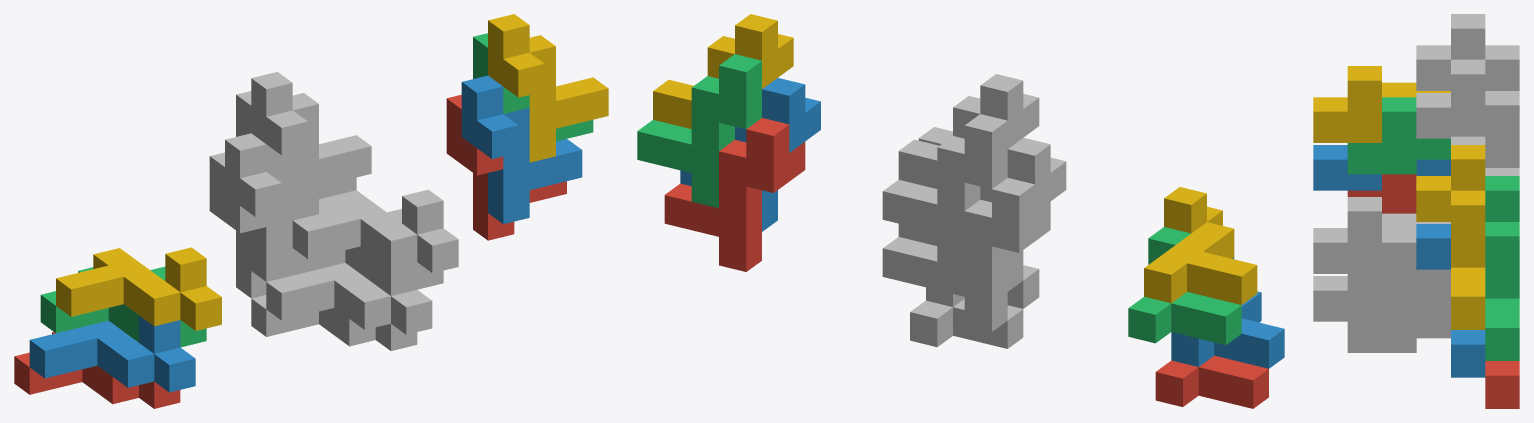
Rendered from tiling.obj.
3 views of the same model, side by side, from view 1: azimuth 30°, elevation 25°; view 2: azimuth 150°, elevation 25°; view 3: azimuth 270°, elevation 25° (orthographic). The views are drawn at different scales.
Parts seen in each view (by area): view 1: copy_1_domain_4, copy_1_domain_8, copy_2_domain_6, copy_2_domain_4, copy_2_domain_8, copy_1_domain_6, copy_1_domain_2, copy_2_domain_2, copy_2_domain_5, copy_1_domain_1, copy_1_domain_5, copy_2_domain_1 (+4 smaller); view 2: copy_2_domain_1, copy_2_domain_5, copy_2_domain_3, copy_2_domain_7, copy_1_domain_4, copy_1_domain_3, copy_2_domain_4, copy_2_domain_8, copy_1_domain_1, copy_1_domain_2, copy_2_domain_2, copy_2_domain_6 (+4 smaller); view 3: copy_2_domain_8, copy_2_domain_7, copy_2_domain_4, copy_1_domain_4, copy_1_domain_8, copy_1_domain_3, copy_2_domain_3, copy_1_domain_7, copy_1_domain_5, copy_2_domain_6, copy_1_domain_6, copy_1_domain_2 (+3 smaller).
Boxes of the visible parts, x1,y1,x2,y2 form: copy_1_domain_4: (56,247,221,330); copy_1_domain_8: (292,189,458,273); copy_2_domain_6: (461,75,582,224); copy_2_domain_4: (251,72,371,220); copy_2_domain_8: (488,14,608,162); copy_1_domain_6: (266,258,432,334); copy_1_domain_2: (29,315,195,392); copy_2_domain_2: (225,133,344,281); copy_2_domain_5: (446,94,566,240); copy_1_domain_1: (14,332,180,408); copy_1_domain_5: (251,295,417,350); copy_2_domain_1: (209,152,266,298); copy_2_domain_1: (910,178,1050,331); copy_2_domain_5: (664,118,805,271); copy_2_domain_3: (882,114,1007,268); copy_2_domain_7: (637,54,761,208); copy_1_domain_4: (1144,187,1257,304); copy_1_domain_3: (1128,227,1241,344); copy_2_domain_4: (898,74,1039,188); copy_2_domain_8: (653,14,793,128); copy_1_domain_1: (1155,355,1268,408); copy_1_domain_2: (1171,257,1284,368); copy_2_domain_2: (926,137,1066,291); copy_2_domain_6: (680,78,820,231); copy_2_domain_8: (1416,145,1485,329); copy_2_domain_7: (1485,176,1519,360); copy_2_domain_4: (1416,14,1485,144); copy_1_domain_4: (1313,66,1450,142); copy_1_domain_8: (1313,197,1450,273); copy_1_domain_3: (1347,97,1450,174); copy_2_domain_3: (1485,45,1519,175); copy_1_domain_7: (1347,228,1450,304); copy_1_domain_5: (1347,305,1450,352); copy_2_domain_6: (1416,224,1485,377); copy_1_domain_6: (1313,276,1450,321); copy_1_domain_2: (1313,145,1450,190).
Size of the model in its own units: 22 by 9 by 6.
